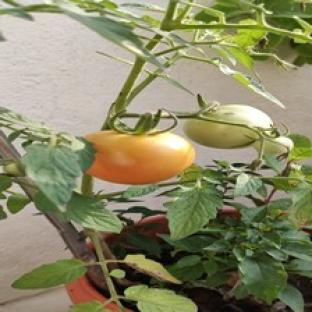Tomato: (85, 130, 194, 183), (184, 119, 257, 149), (264, 137, 293, 154)
